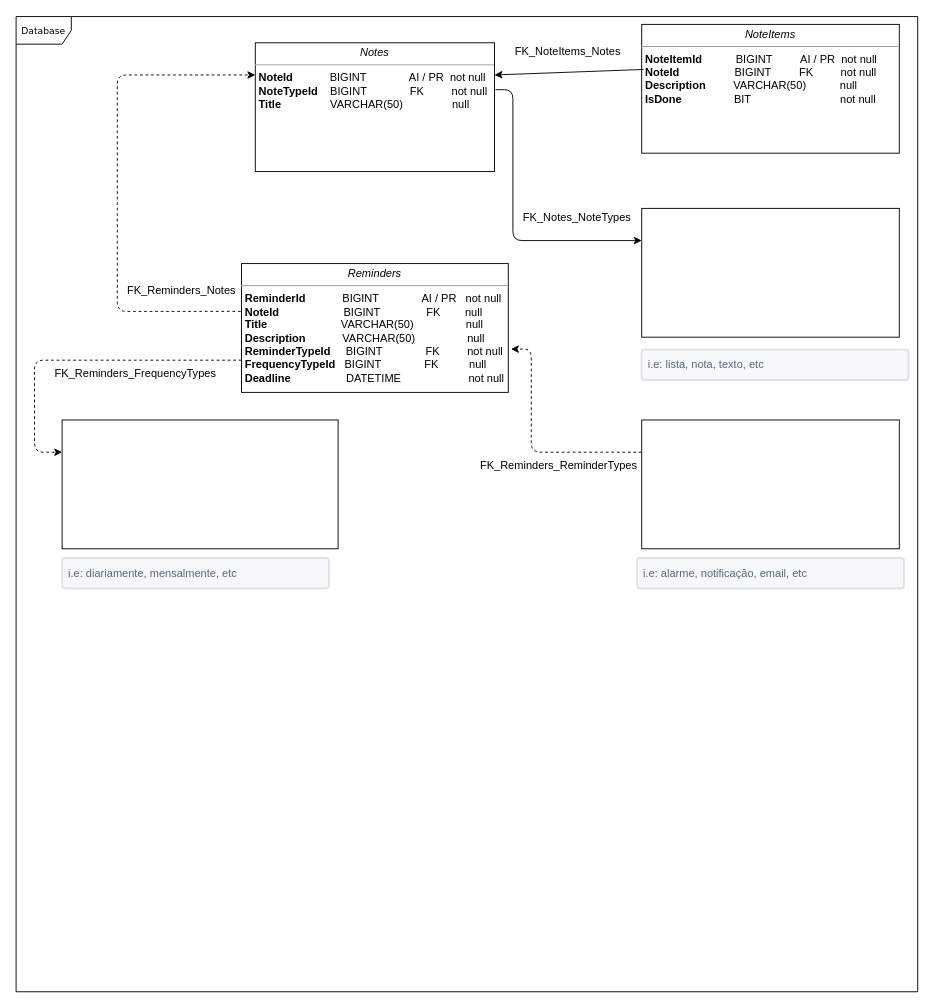
This 934x1007 diagram has some shape labels left out. Here are the shapes that lost their labels. From the top down, the box of each, then its label:
(641, 207, 899, 337): NoteTypes NoteTypeId BIGINT PR not null Name VARCHAR(15) not null
(61, 419, 338, 549): FrequencyTypes FrequencyTypeId BIGINT PR not null Name VARCHAR(15) not null
(641, 419, 899, 549): ReminderTypes ReminderTypeId BIGINT PR not null Name VARCHAR(15) not null
